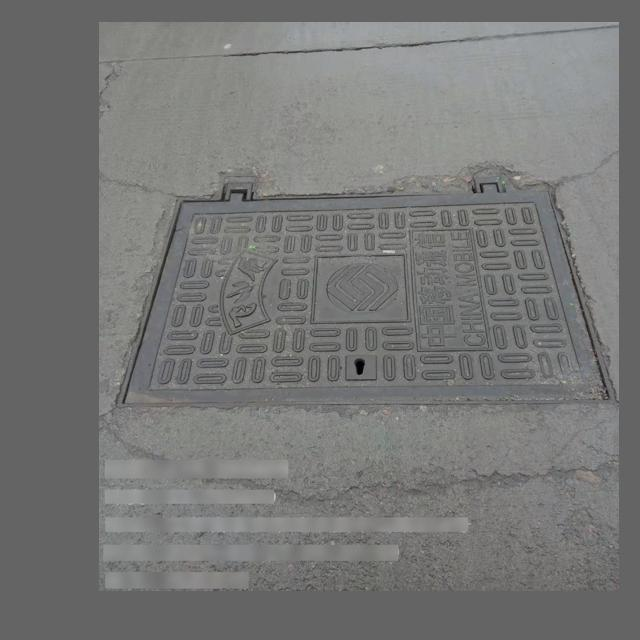good: (117, 174, 619, 407)
